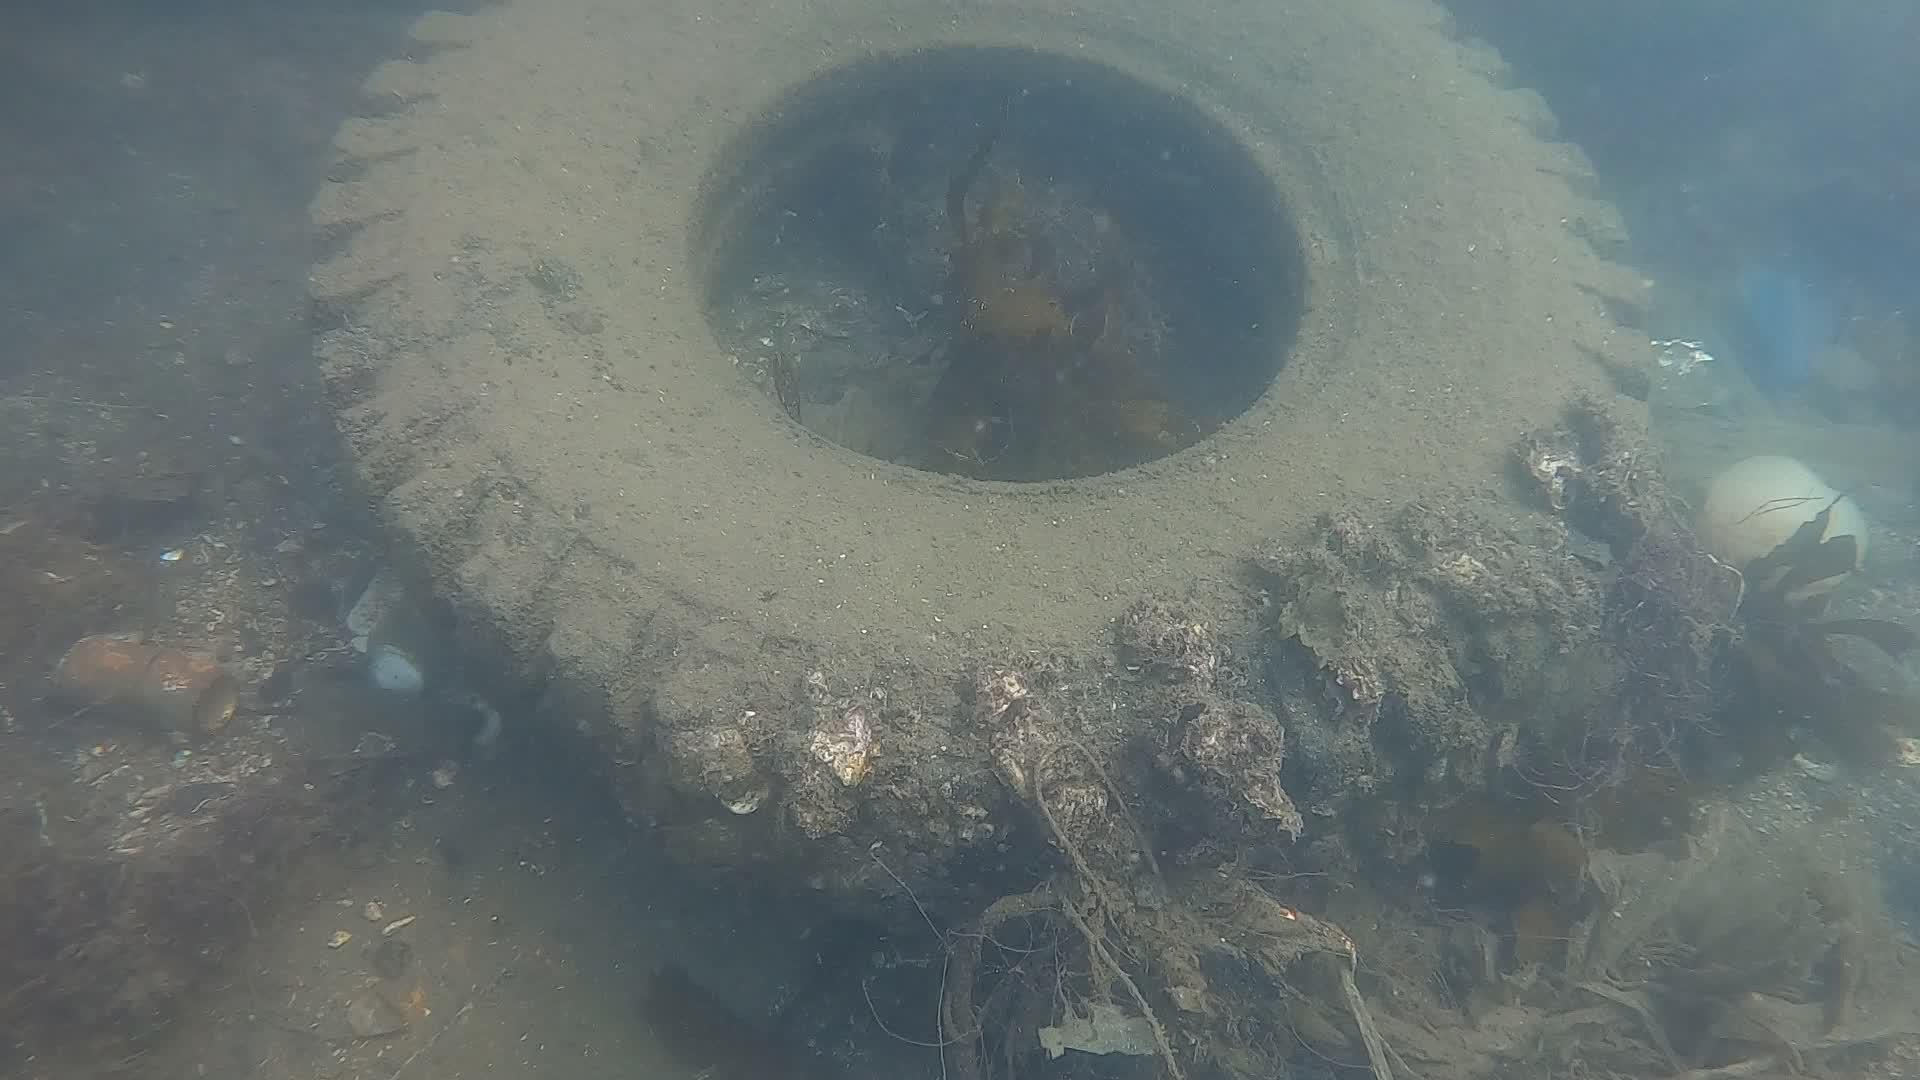tire: (302, 0, 1663, 688)
